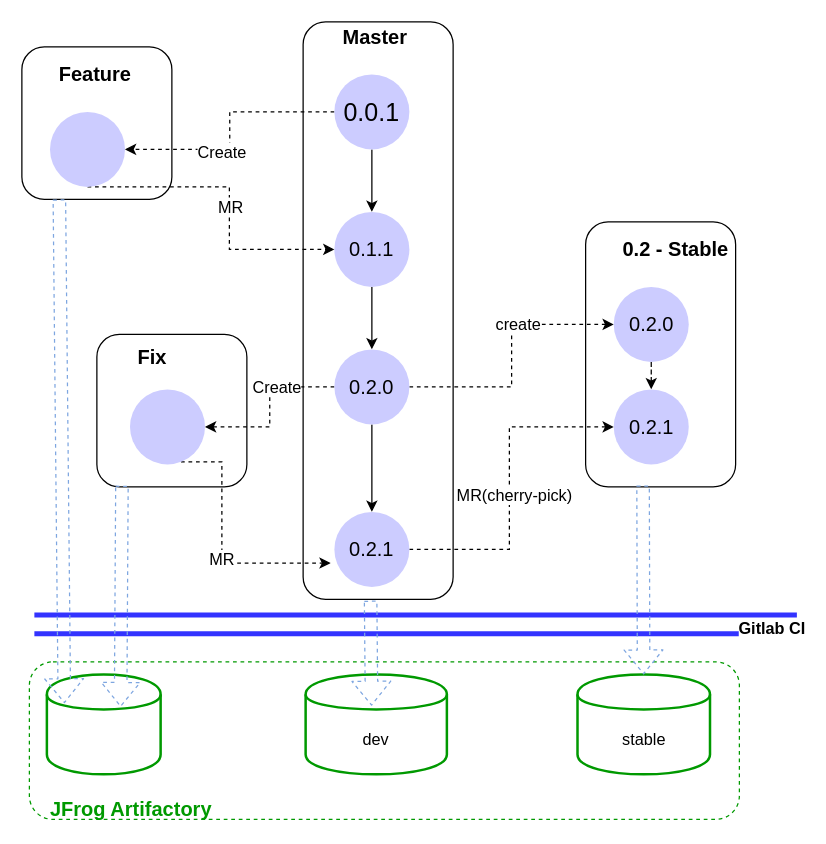
Image size: 826x844. Some labels were removed from this diagram. The centre of each missing label's shape, as x and y in pixels:
F1: point (86, 148)
issue123: point (166, 426)
temp: point (103, 723)
